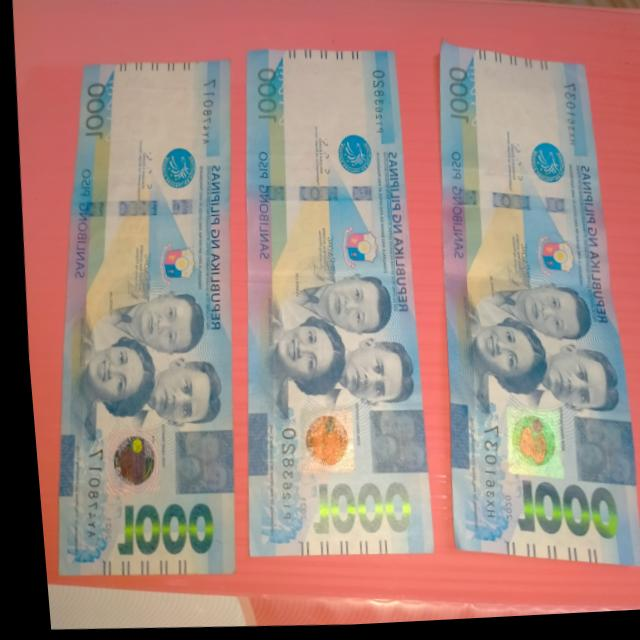concealed_value: (352, 407, 423, 480), (156, 428, 228, 499), (561, 418, 627, 492)
optically_variable_device: (91, 419, 161, 502), (285, 402, 355, 484), (494, 407, 557, 482)
see_through_mark: (456, 62, 491, 148), (93, 71, 126, 155), (266, 59, 294, 139)
